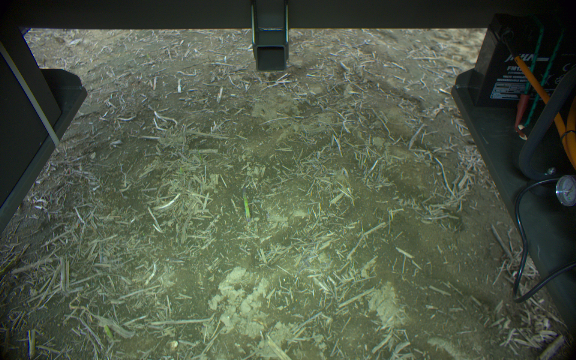aspa: (241, 185, 251, 220)
